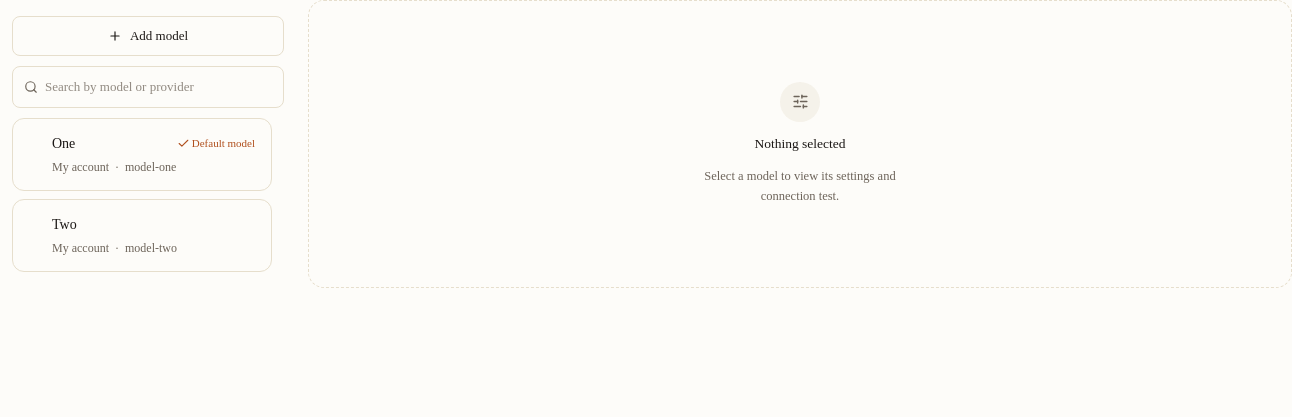
Test: prefills the add panel with the provider's default model
This screenshot has width=1292, height=417.
Click the button "Add model".
click(148, 36)  # box [12,16,284,56]
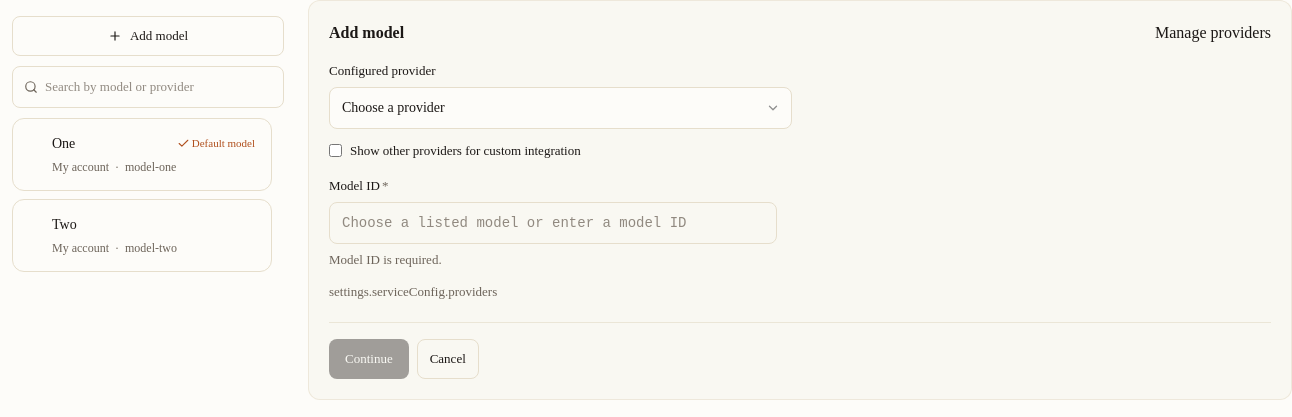
Select "My account" in the dropdown labelled "Configured provider" at (560, 108), box [329,86,792,128]
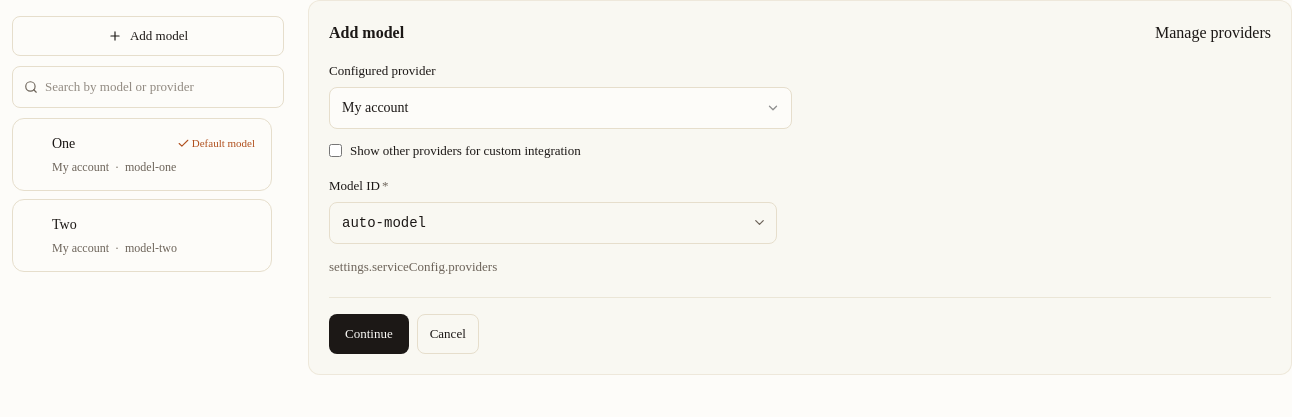
Result: the dropdown labelled "Model ID" holds "auto-model" at [329,202,777,244]
Result: the button "Continue" is enabled at [329,314,409,354]
